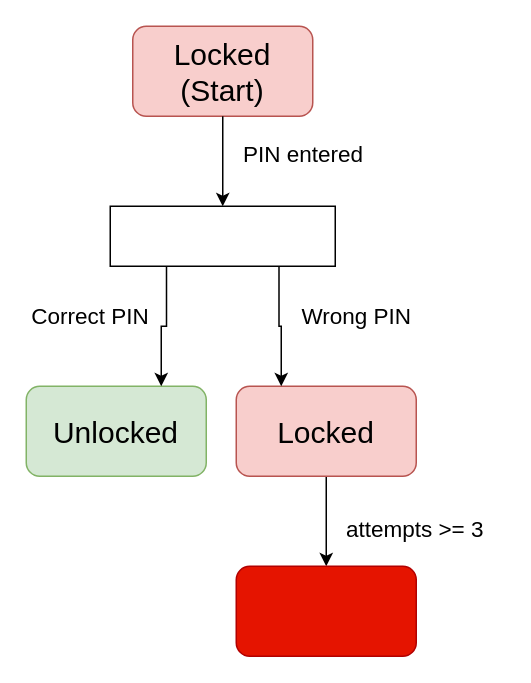
This 531x683 diagram has some shape labels left out. The shapes that lost their labels are listed below. From the top down, each one's box as (x1, y1, x2, y2) in pixels, then its label:
(109, 205, 335, 266): Validate PIN
(235, 565, 416, 656): LockedOut
